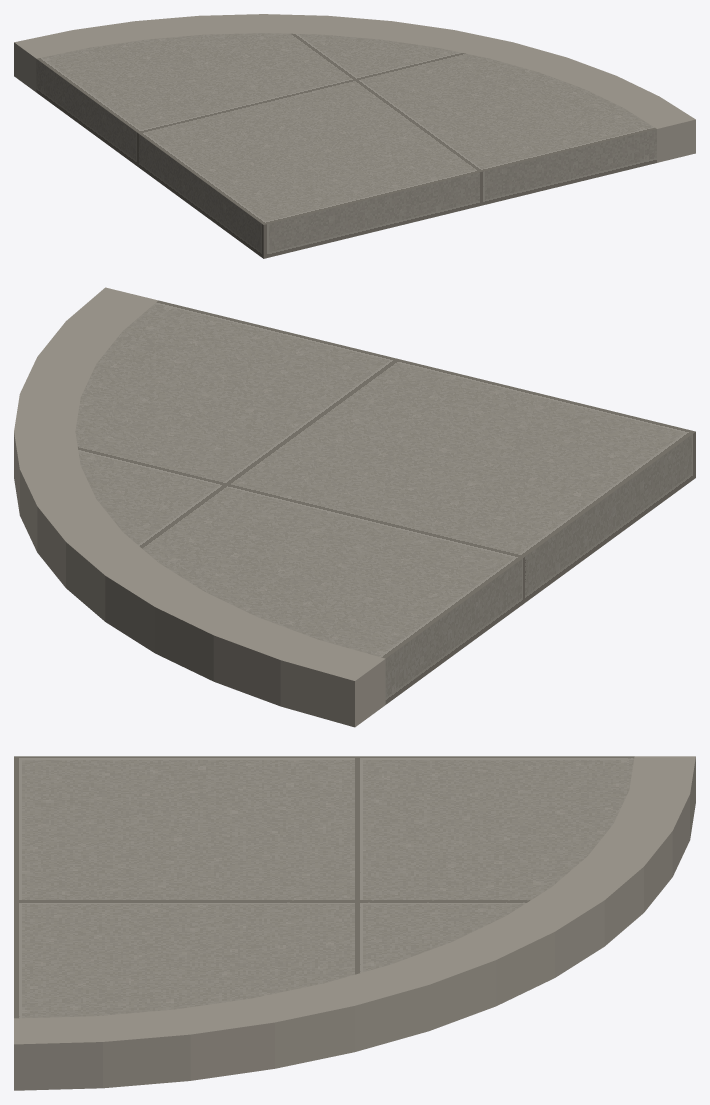
File: MS_RD_13_InsideSidewalkCorner.glb
3 renders of one model, top to bottom at view 1: azimuth 30°, elevation 25°; view 2: azimuth 150°, elevation 25°; view 3: azimuth 270°, elevation 25°, orthographic. The views are drawn at different scales.
Visible parts, largest first — view 1: Concrete.005, Curb.002; view 2: Concrete.005, Curb.002; view 3: Concrete.005, Curb.002.
Boxes of the visible parts, x1,y1,x2,y2 form: Concrete.005: (36,33,656,258); Curb.002: (14,14,695,162); Concrete.005: (75,300,695,704); Curb.002: (14,287,385,727); Concrete.005: (14,756,634,1018); Curb.002: (14,756,695,1090).
Size of the model in its own units: 2 by 0.15 by 2.
Materials: 2 (1 with a texture image).
